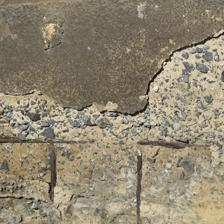Crack: (83, 18, 141, 75), (79, 77, 164, 105)
